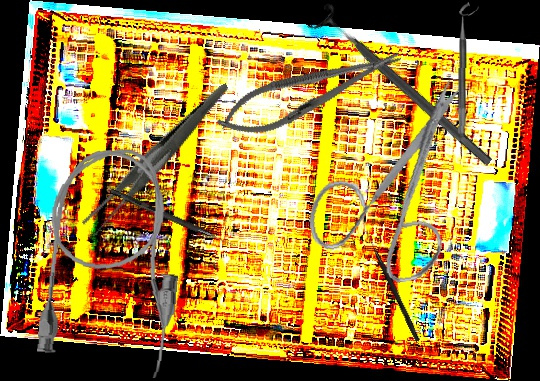Cannula: (35, 142, 189, 380)
Dressing Forceps: (56, 83, 260, 238)
Fixation Ring: (306, 0, 501, 177), (457, 2, 479, 135)
Hook Surgical: (109, 188, 238, 249), (362, 229, 422, 343)
Iris Scissors: (289, 75, 494, 297)
Needle Holder: (210, 34, 410, 150)
